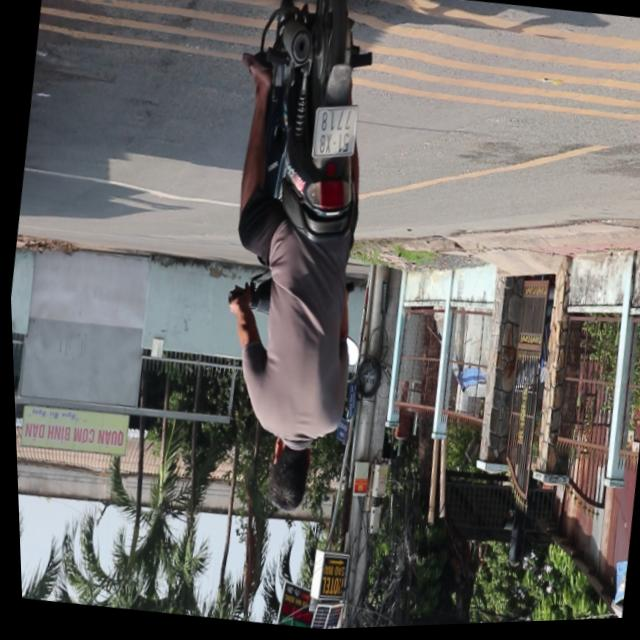licenseplate: (179, 0, 410, 525)
motorcyclist: (259, 436, 315, 519)
nohelmet: (309, 105, 360, 165)
